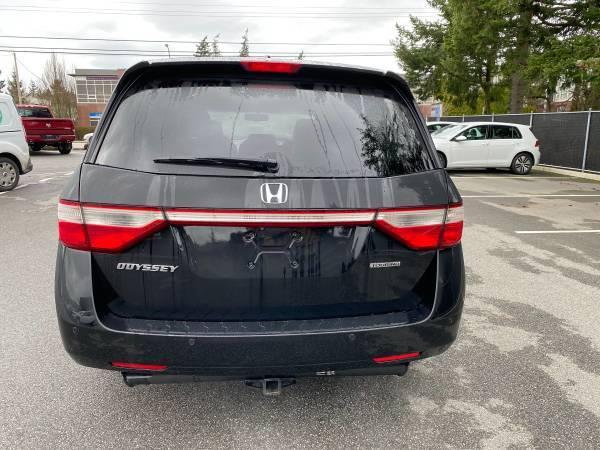Left_Taillight: (50, 193, 162, 249)
Rear_Bumper: (53, 243, 464, 372)
Rear_Windshield: (85, 62, 439, 178)
Right_Taillight: (375, 198, 462, 247)
Tailgate: (55, 156, 458, 315)
